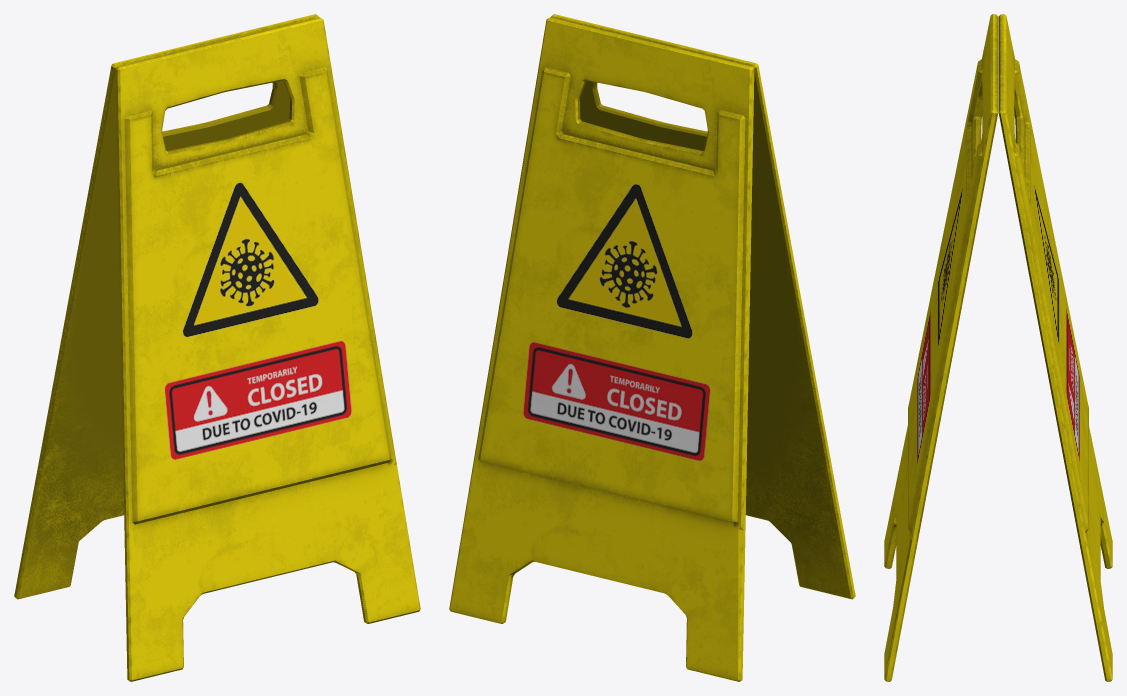
The model's file is covid_19_-_closed_sign.glb.
The picture shows the model from 3 angles, left to right: view 1: azimuth 30°, elevation 25°; view 2: azimuth 150°, elevation 25°; view 3: azimuth 270°, elevation 25°; orthographic projection. The views are drawn at different scales.
Visible parts, largest first — view 1: YellowSign-material (×2); view 2: YellowSign-material (×2); view 3: YellowSign-material (×2).
Boxes of the visible parts, left/top/right/bottom form: YellowSign-material (×2): left=14, top=14, right=420, bottom=681; YellowSign-material (×2): left=449, top=14, right=855, bottom=681; YellowSign-material (×2): left=884, top=14, right=1112, bottom=681.
Size of the model in its own units: 0.4262 by 0.7887 by 0.2964.
Materials: 1 (1 with a texture image).
